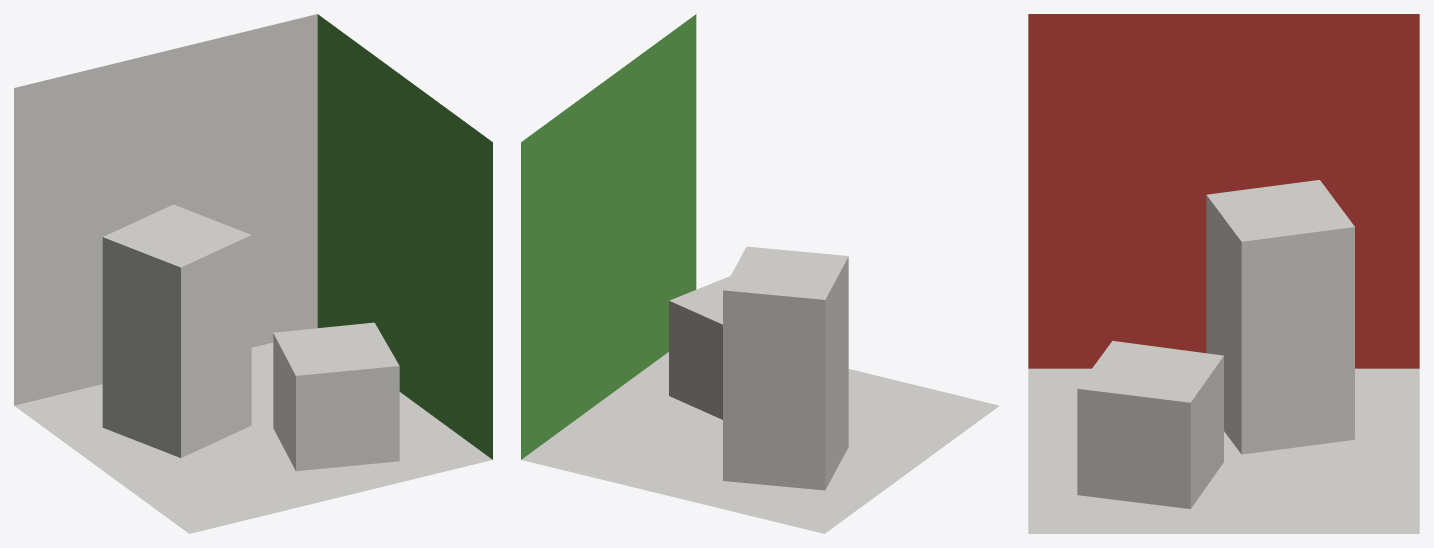
The model's file is cornell_box.gltf.
The picture shows the model from 3 angles, left to right: view 1: azimuth 30°, elevation 25°; view 2: azimuth 150°, elevation 25°; view 3: azimuth 270°, elevation 25°; orthographic projection. The views are drawn at different scales.
Parts seen in each view (by area): view 1: cornell; view 2: cornell; view 3: cornell.
Part boxes in pixels (<box>): cornell: <box>14,14,492,533</box>; cornell: <box>521,14,999,533</box>; cornell: <box>1028,14,1419,533</box>.
Size of the model in its own units: 2 by 2.02 by 2.
